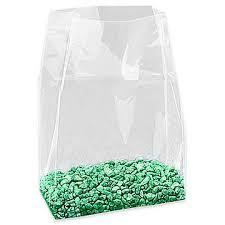Plastic bag: (33, 9, 196, 151)
Plastic shavings: (38, 160, 189, 210)
